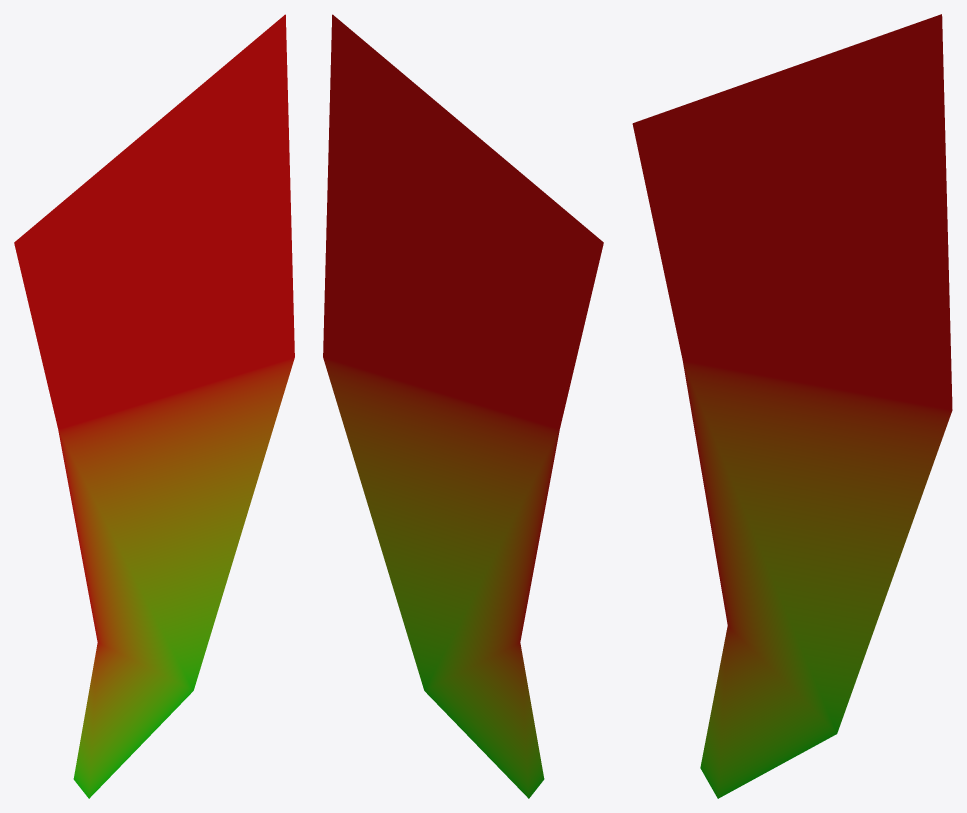
File: Sea Wheatgrass_LOD3_Var16_ui2oagjia.fbx
3 views of the same model, side by side, from view 1: azimuth 30°, elevation 25°; view 2: azimuth 150°, elevation 25°; view 3: azimuth 330°, elevation 25° (orthographic). The views are drawn at different scales.
Visible parts, largest first — view 1: _qwr0_Var16_LOD3; view 2: _qwr0_Var16_LOD3; view 3: _qwr0_Var16_LOD3.
Part boxes in pixels (box(x1,y1,x2,y2)): _qwr0_Var16_LOD3: box(14, 14, 294, 798); _qwr0_Var16_LOD3: box(323, 14, 603, 798); _qwr0_Var16_LOD3: box(632, 14, 952, 798).
Size of the model in its own units: 24.26 by 60.83 by 2.66e-06.
